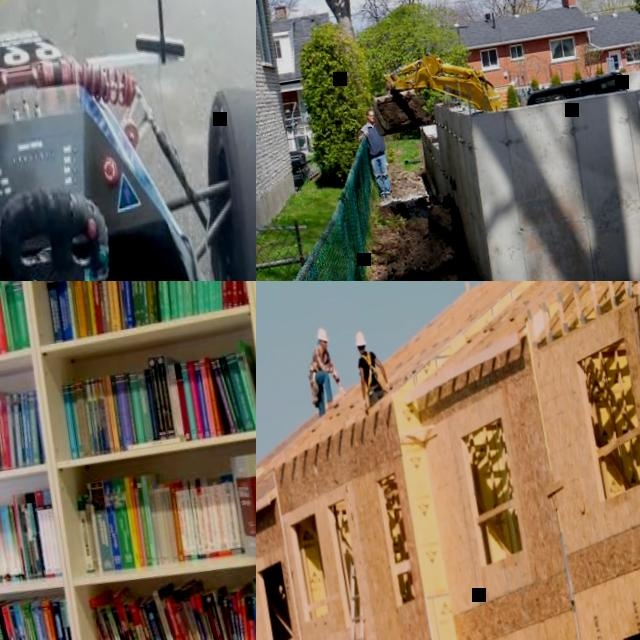Hardhat: (317, 328, 330, 343)
NO-Hardhat: (366, 108, 376, 116)
NO-Mask: (367, 116, 376, 124), (323, 345, 329, 351)
NO-Safety Vest: (365, 122, 389, 157), (360, 351, 380, 392), (308, 345, 331, 372)
Person: (301, 326, 350, 418), (354, 106, 396, 199), (353, 329, 395, 411)
machinery: (364, 41, 507, 140)
vehicle: (0, 0, 256, 281), (524, 71, 629, 109)
